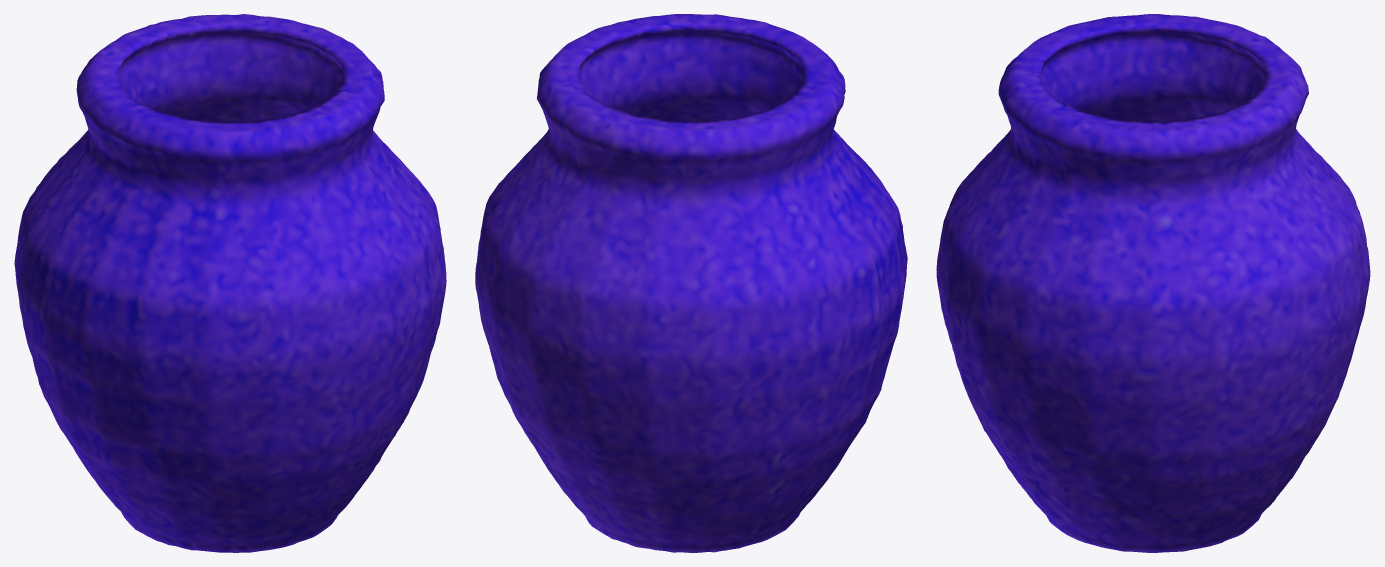
File: vase_200_iters.obj
3 views of the same model, side by side, from view 1: azimuth 30°, elevation 25°; view 2: azimuth 150°, elevation 25°; view 3: azimuth 270°, elevation 25° (orthographic).
Bounding box in the file's own units: 1.57 × 1.74 × 1.57.
